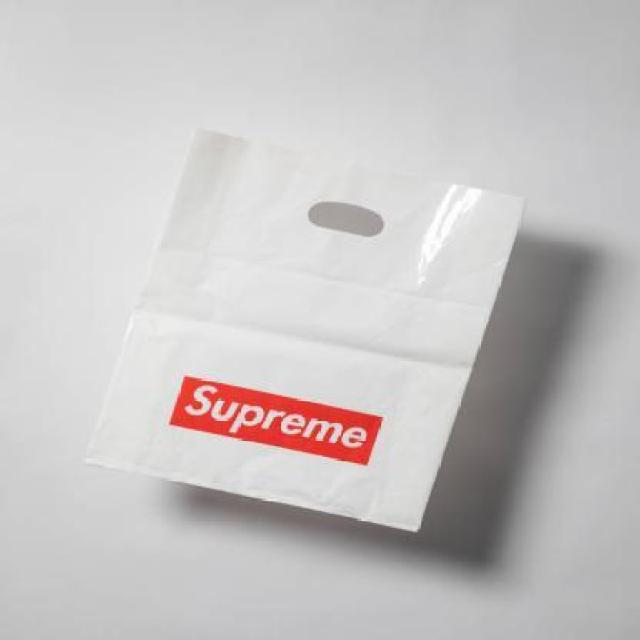plastic bag: (77, 122, 526, 568)
